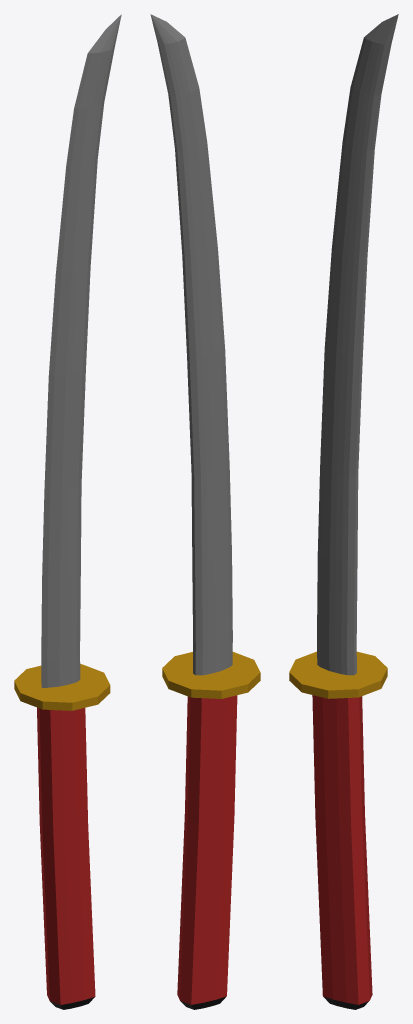
The model's file is Asian_Prop_Weapon_Wakizashi_01.FBX.
The picture shows the model from 3 angles, left to right: view 1: azimuth 30°, elevation 25°; view 2: azimuth 210°, elevation 25°; view 3: azimuth 330°, elevation 25°; orthographic projection. The views are drawn at different scales.
Visible parts, largest first — view 1: Asian_Prop_Weapon_Wakizashi_01; view 2: Asian_Prop_Weapon_Wakizashi_01; view 3: Asian_Prop_Weapon_Wakizashi_01.
Part boxes in pixels (box(x1,y1,x2,y2)): Asian_Prop_Weapon_Wakizashi_01: box(14, 14, 121, 1009); Asian_Prop_Weapon_Wakizashi_01: box(150, 14, 260, 1009); Asian_Prop_Weapon_Wakizashi_01: box(289, 14, 398, 1009).
Size of the model in its own units: 132 by 1224 by 104.
